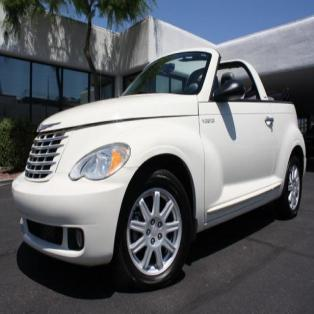Auto: (11, 44, 306, 294)
